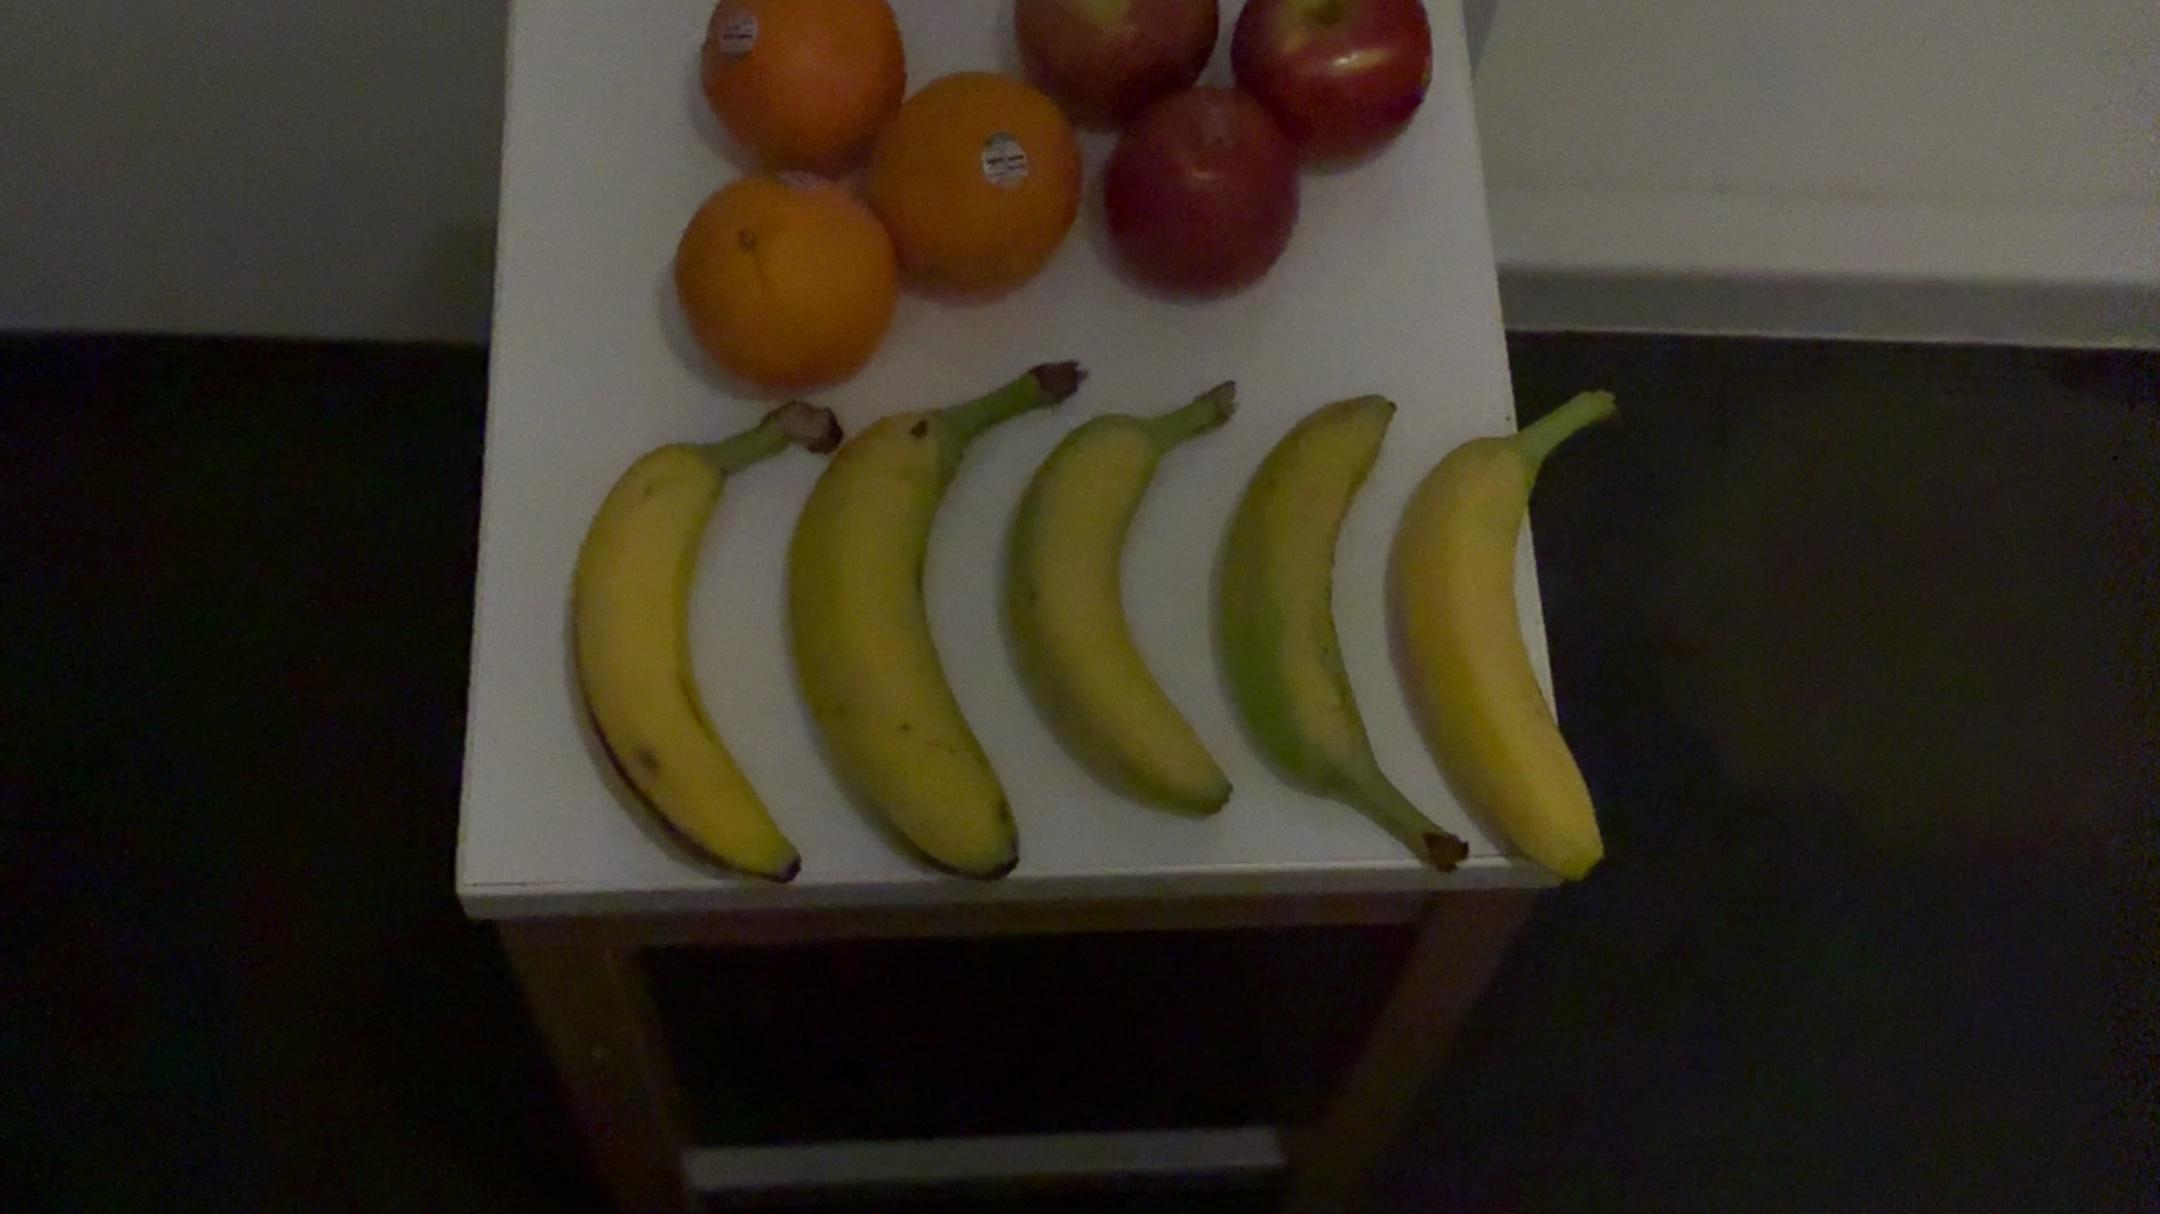apple: (1101, 99, 1298, 306), (1231, 7, 1439, 171), (1013, 1, 1216, 131)
banana: (795, 332, 1049, 899), (1214, 373, 1484, 893), (564, 377, 820, 899), (1383, 375, 1639, 890), (1013, 355, 1240, 858)
orange: (865, 62, 1077, 316), (671, 168, 886, 399), (681, 4, 918, 171)
